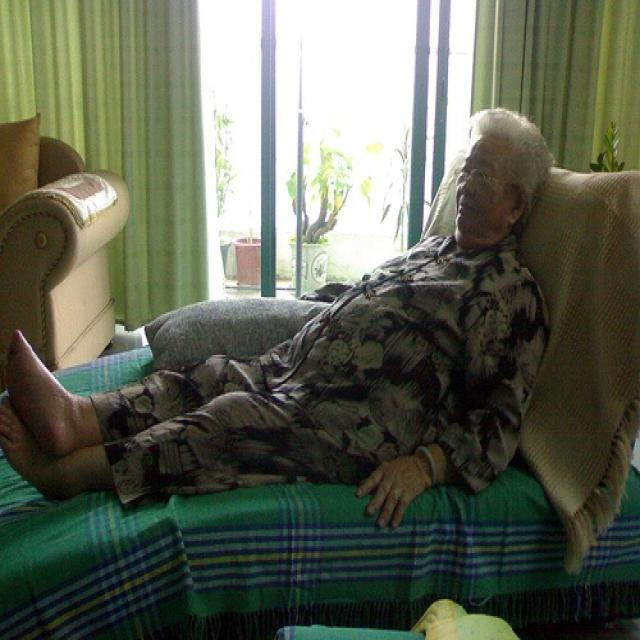pottedplant: (286, 121, 380, 302), (380, 126, 408, 255), (212, 90, 230, 285), (584, 120, 631, 170), (230, 234, 262, 288)
sofa: (1, 112, 131, 368)
